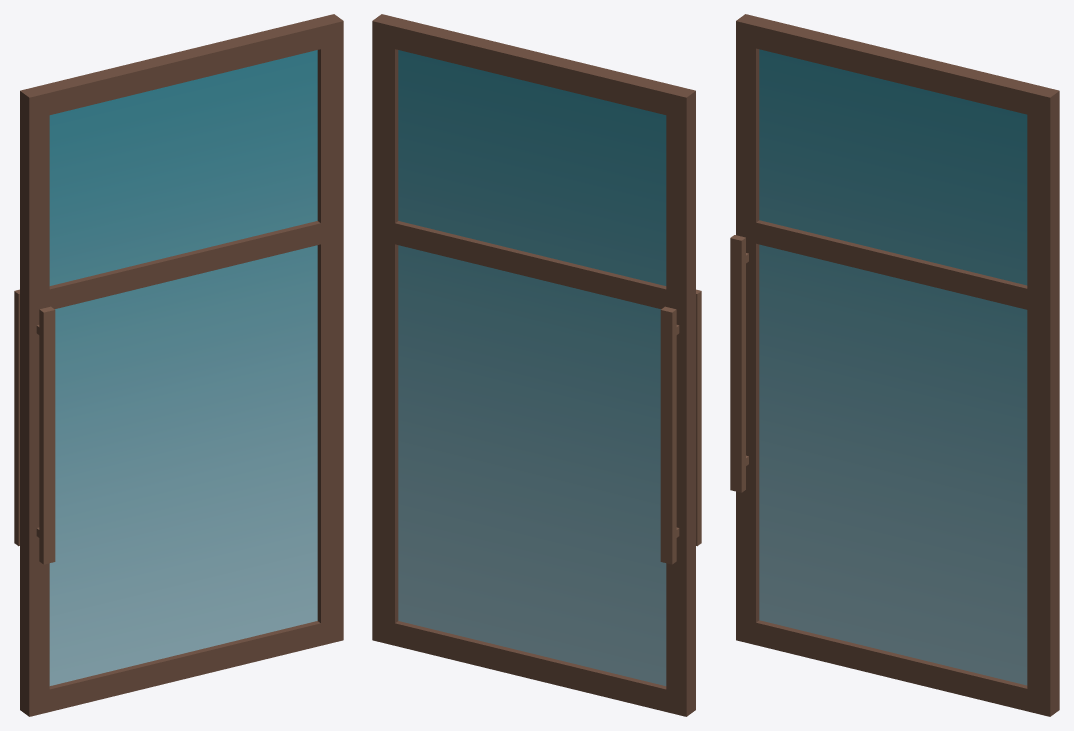
The model's file is SM_Buildings_Supermarket_02_Door_R.fbx.
3 renders of one model, left to right at view 1: azimuth 30°, elevation 25°; view 2: azimuth 150°, elevation 25°; view 3: azimuth 330°, elevation 25°, orthographic.
Parts seen in each view (by area): view 1: SM_Buildings_Supermarket_02_Door_R; view 2: SM_Buildings_Supermarket_02_Door_R; view 3: SM_Buildings_Supermarket_02_Door_R.
Part boxes in pixels (x1=…): SM_Buildings_Supermarket_02_Door_R: x1=14, y1=14, x2=343, y2=716; SM_Buildings_Supermarket_02_Door_R: x1=372, y1=14, x2=701, y2=716; SM_Buildings_Supermarket_02_Door_R: x1=730, y1=14, x2=1059, y2=716.
Size of the model in its own units: 1.59 by 3 by 0.2602.
